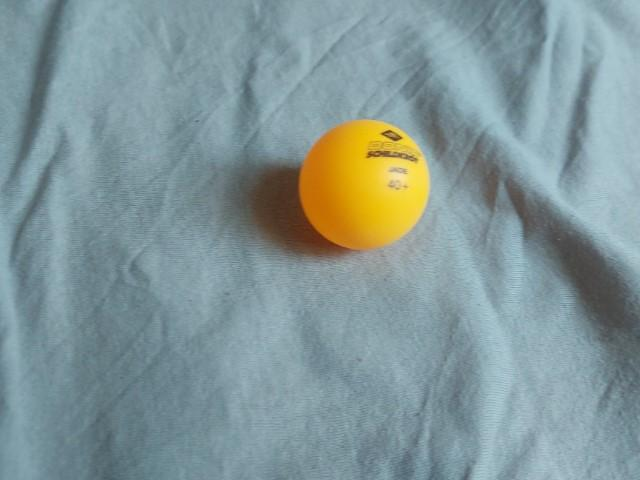oball: (287, 113, 445, 260)
